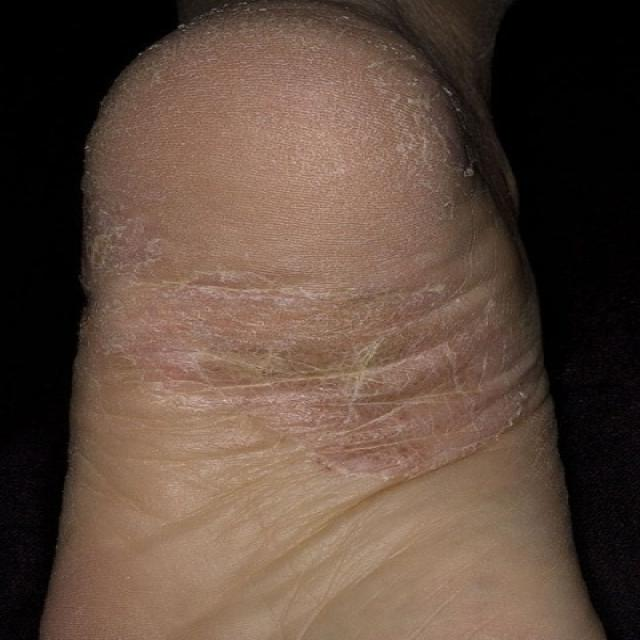Psoriasis Pustulosa: (40, 0, 602, 639)
